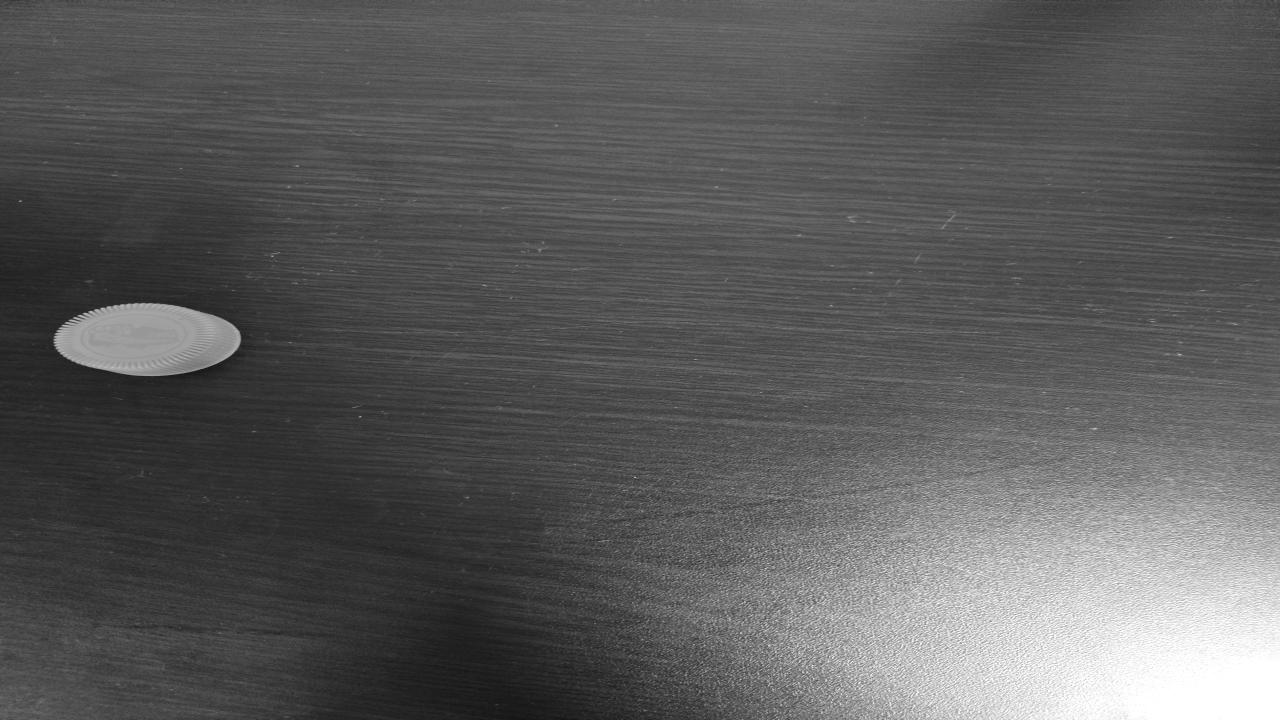bottle_cap: (62, 305, 232, 375)
